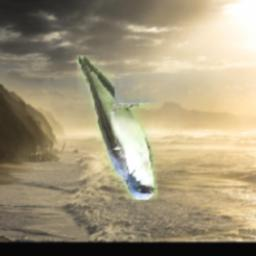Swallow: (78, 56, 159, 201)
